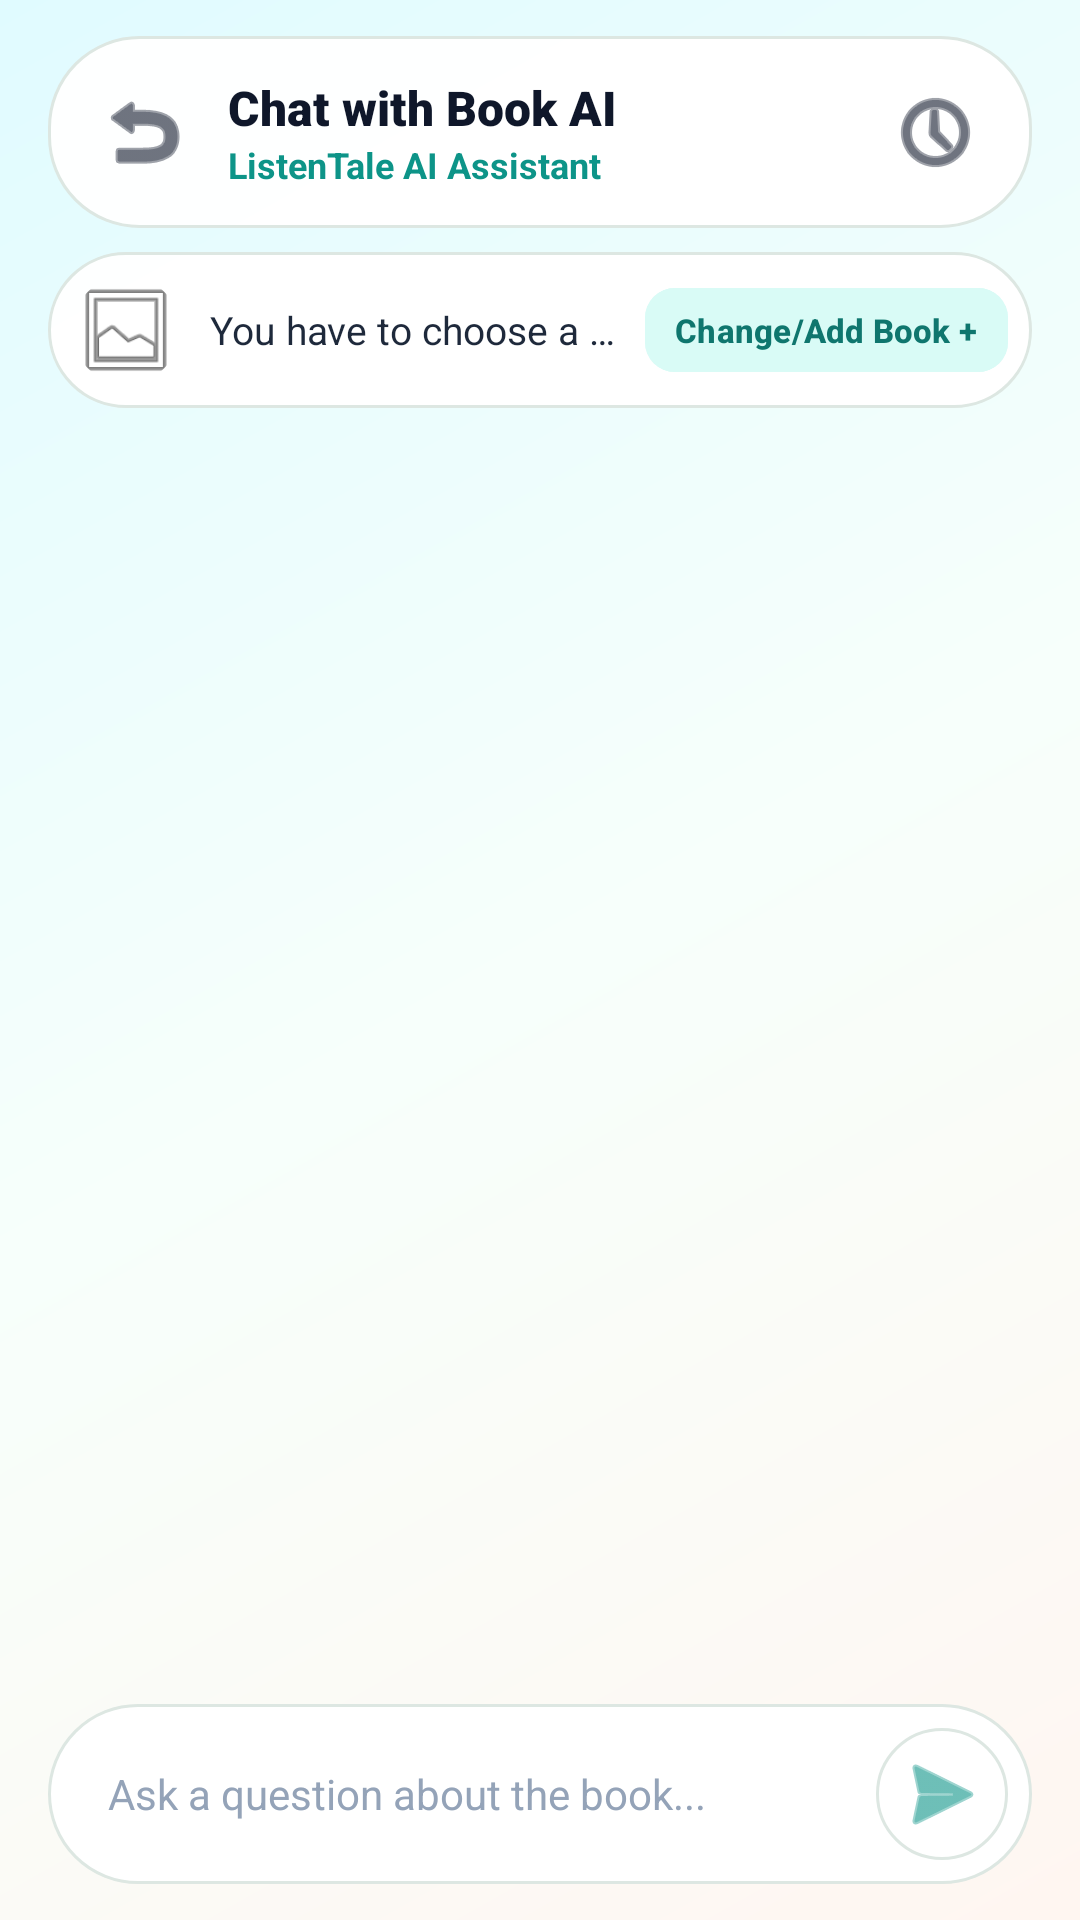

Screen size 1080px×1920px. Icon name, then its box in pixels as bbox=[x1, y1, x2, y2]:
Chat History: bbox=[901, 98, 970, 167]
gallery: bbox=[85, 289, 167, 371]
revert: bbox=[111, 101, 180, 164]
send: bbox=[876, 1728, 1008, 1860]
